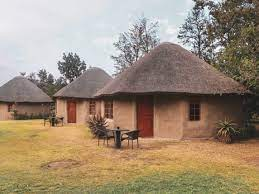Mud House: (102, 44, 247, 145), (51, 65, 119, 135), (1, 75, 53, 121)
